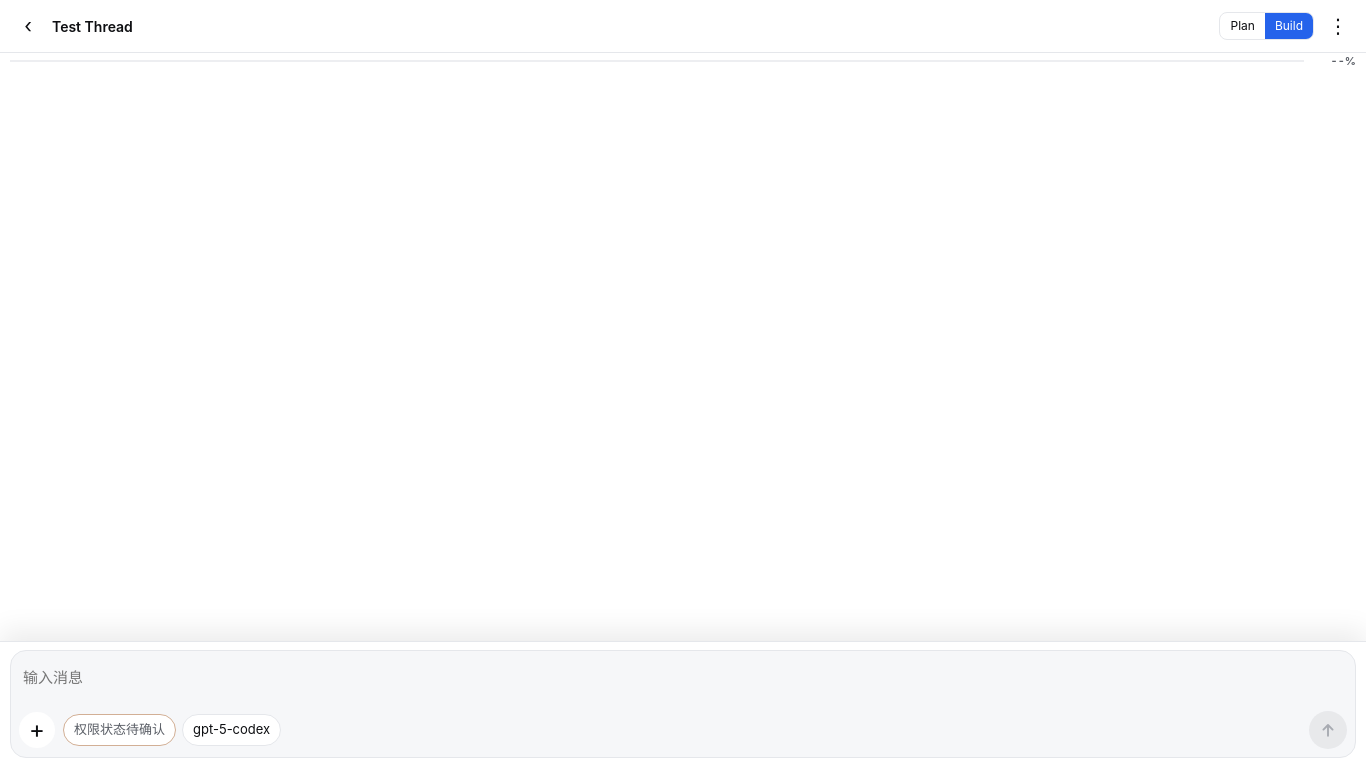
Test: ThreadPage › should set a thread goal from the add panel
Click the button named "添加内容": (37, 730) [19, 712, 55, 748]
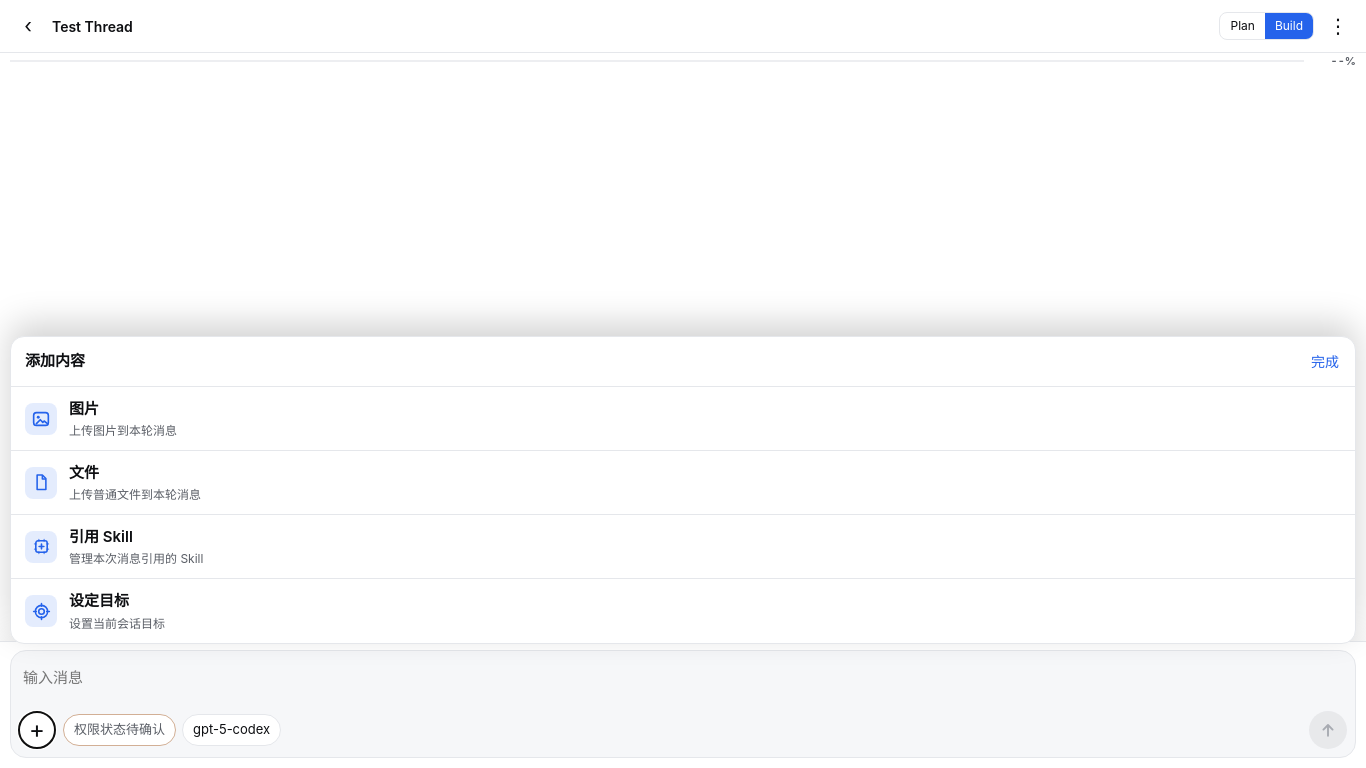
Click the button "设定目标 设置当前会话目标": (41, 611) [11, 579, 1355, 643]
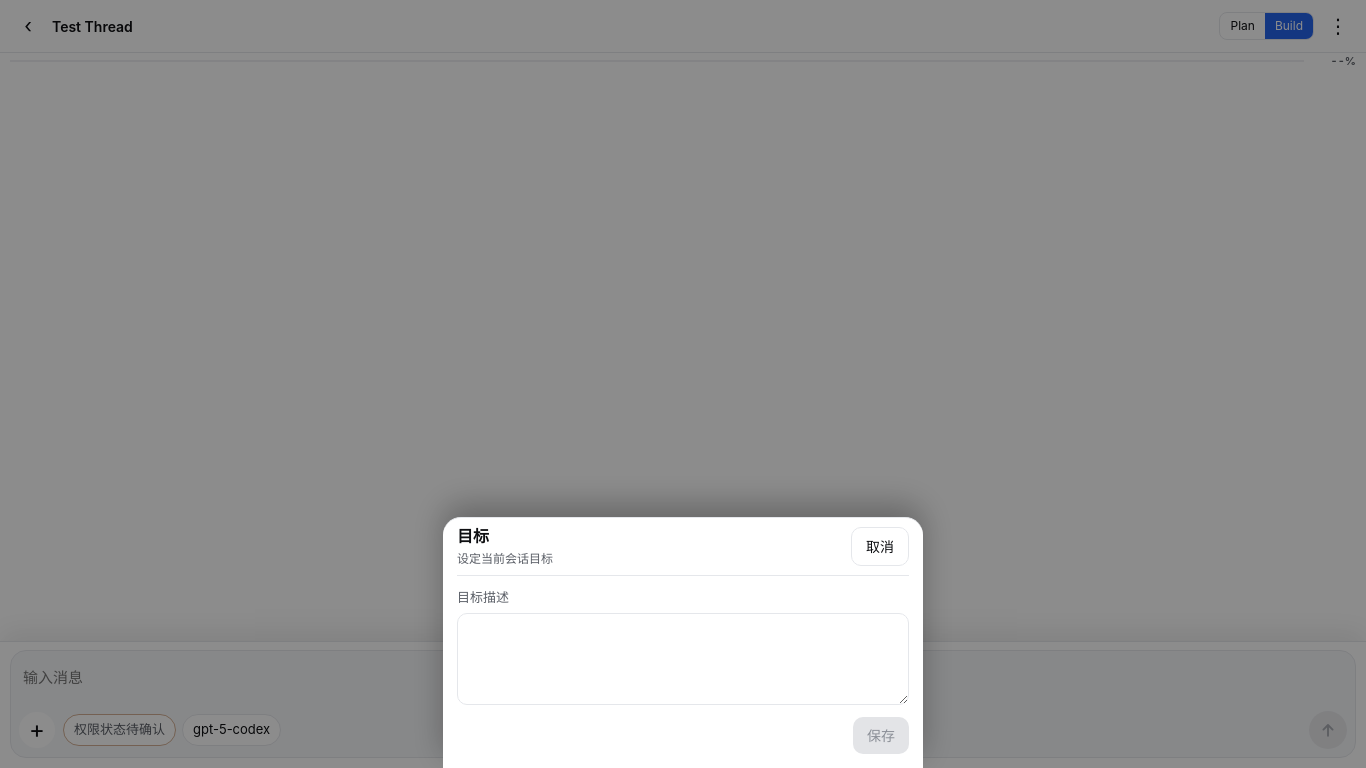
In the text box labelled "目标描述": (683, 659) [457, 613, 909, 705], type "  完成新的目标体验  "
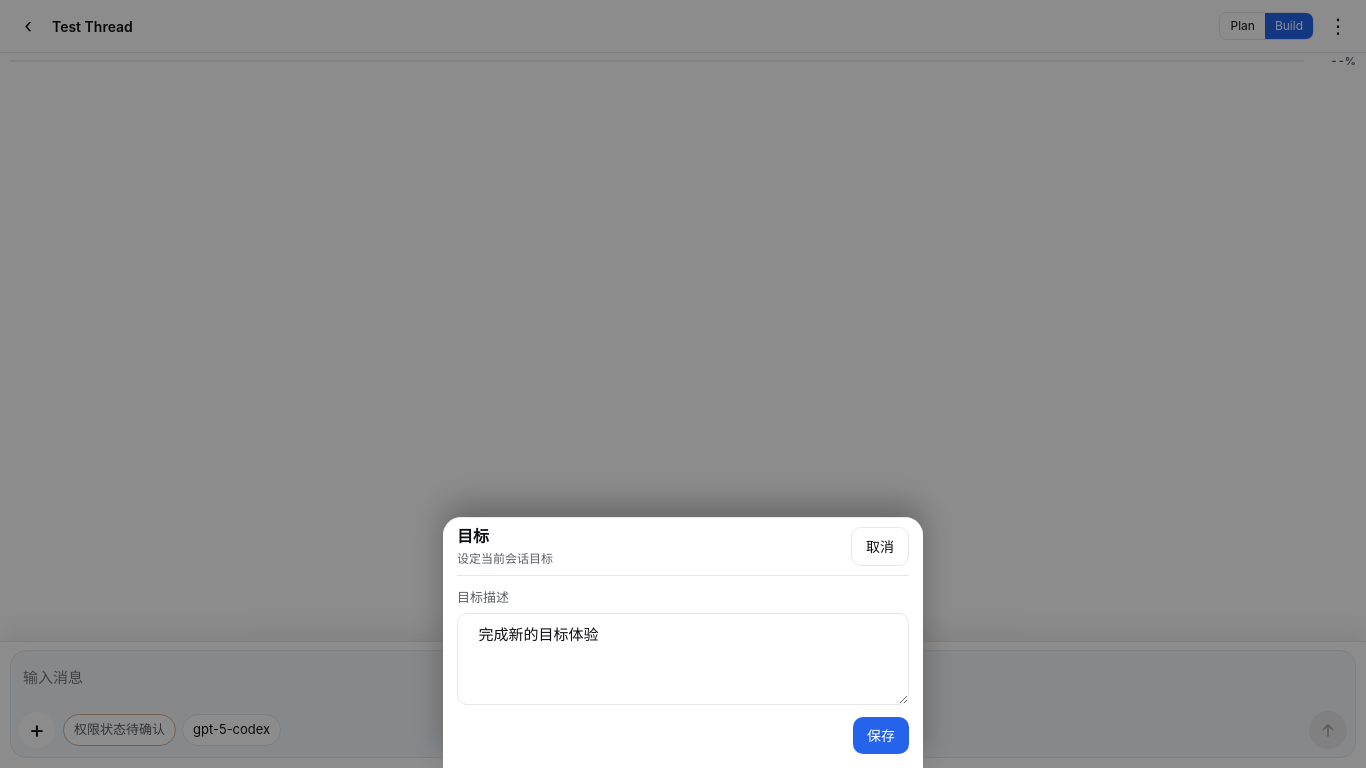
Click the button "保存": (881, 736) [853, 717, 909, 754]
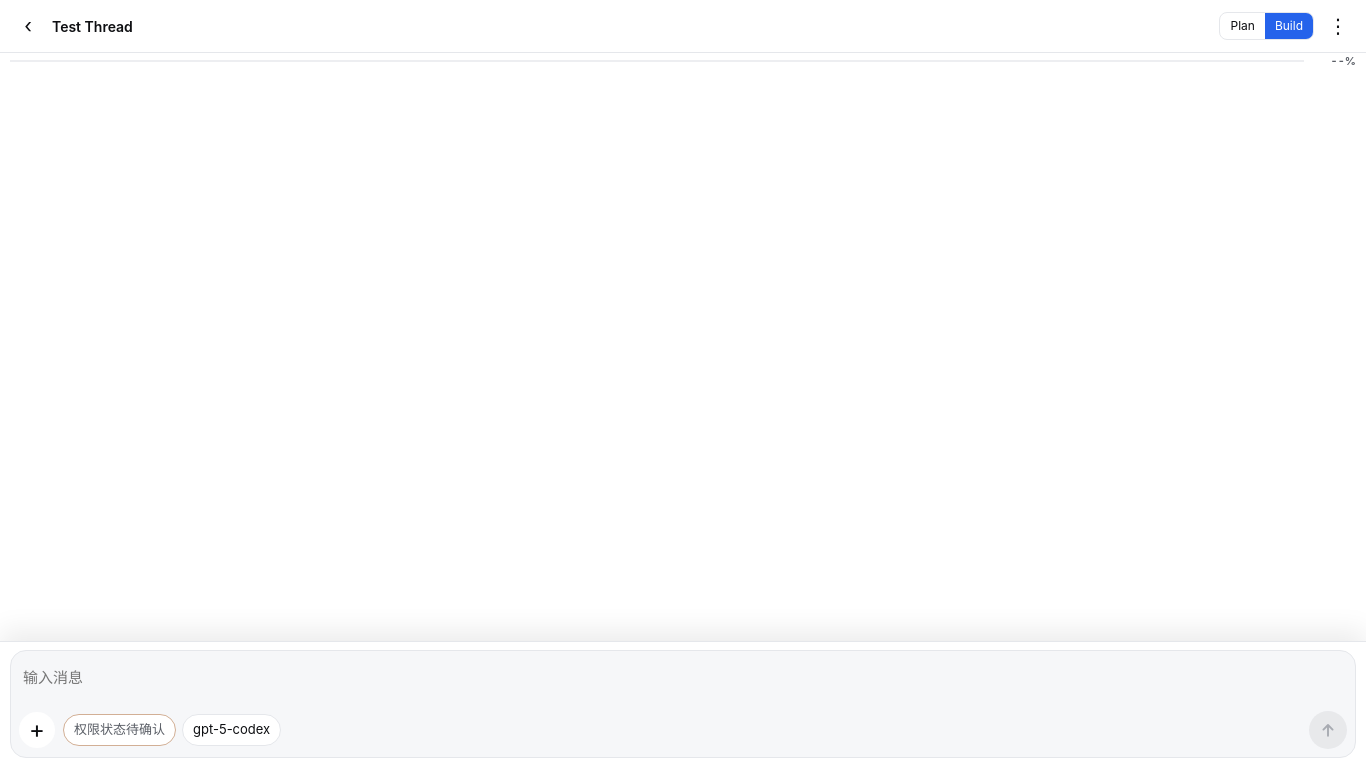
Expected: the text "目标" is gone
